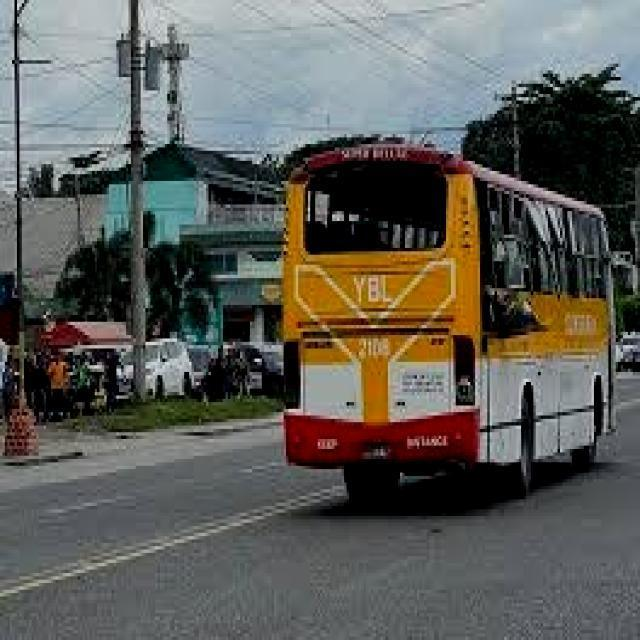Bus: (269, 127, 626, 521)
